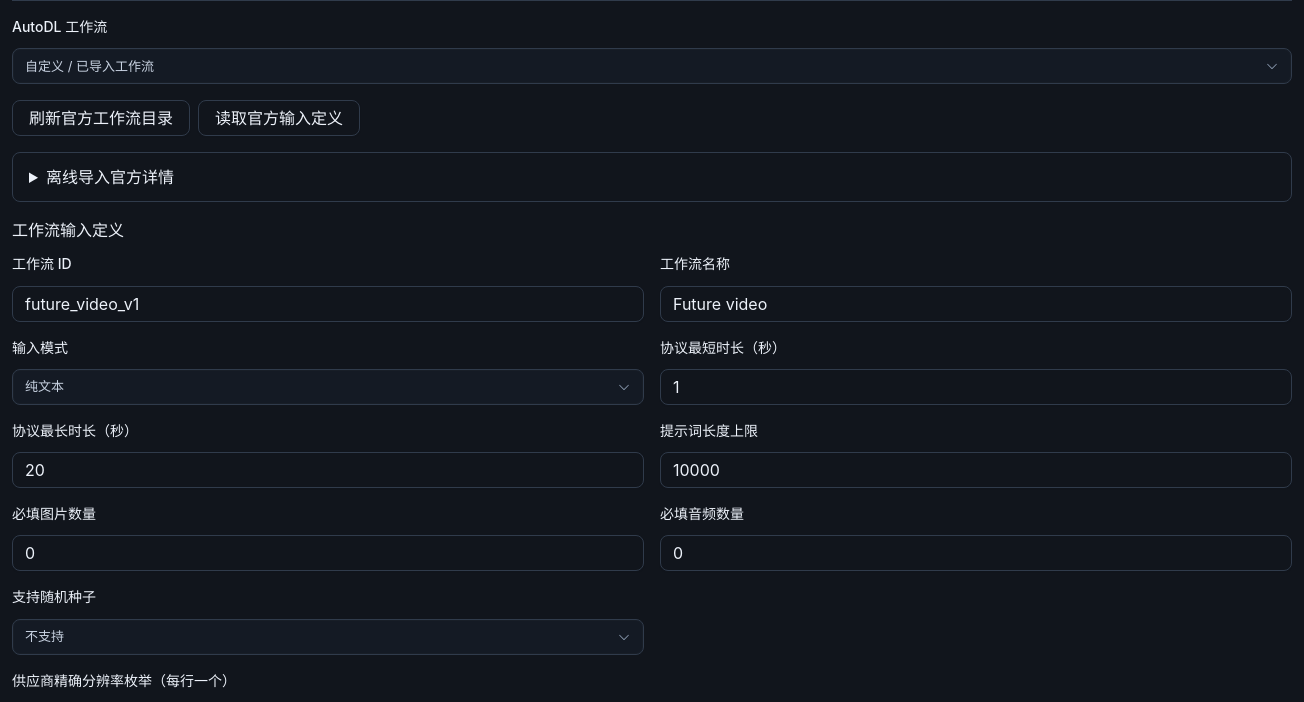
Scenario: AutoDL workflow discovery › keeps the reviewed definition and prices when official discovery fails
Click the button "读取官方输入定义" at (279, 118), box 198,100 -> 360,136
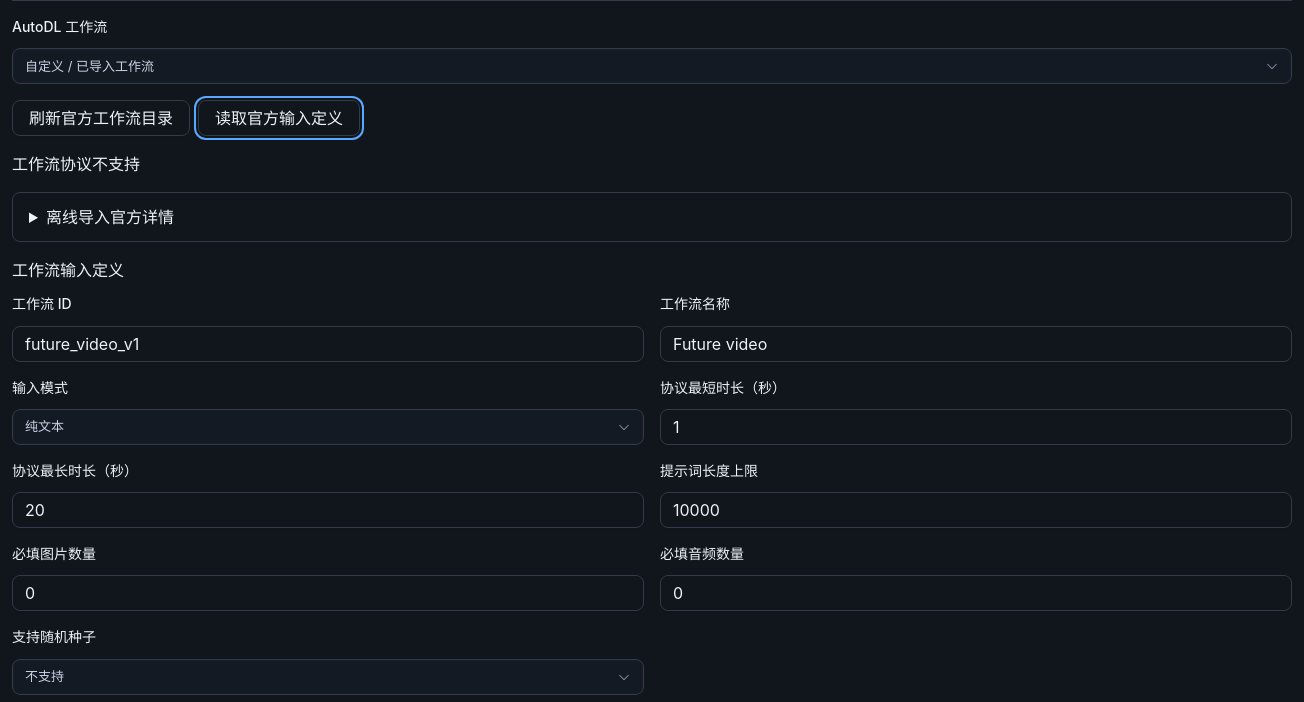
Now the message reads "工作流协议不支持", box 12,154 -> 140,174
